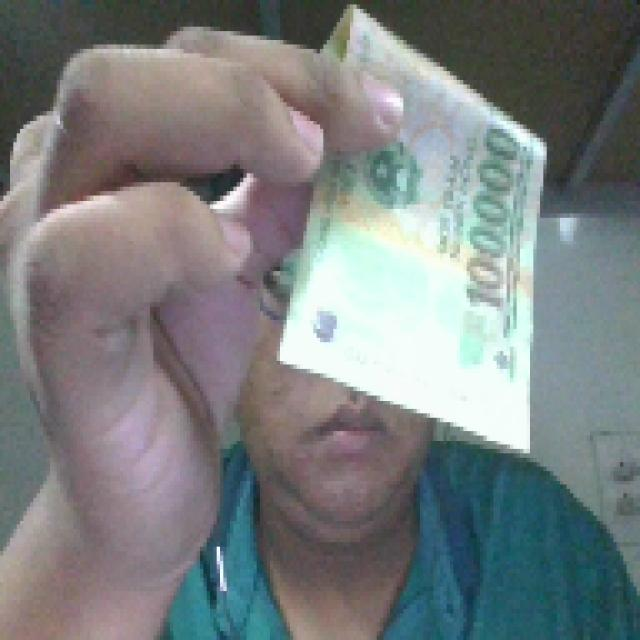100 000 VND: (267, 0, 550, 458)
